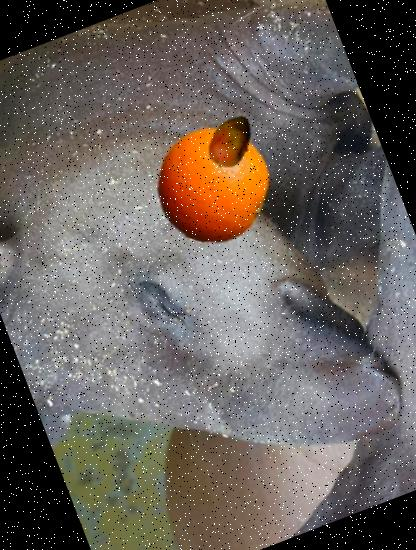Orange: (138, 112, 288, 260)
Papaya: (194, 104, 270, 179)
